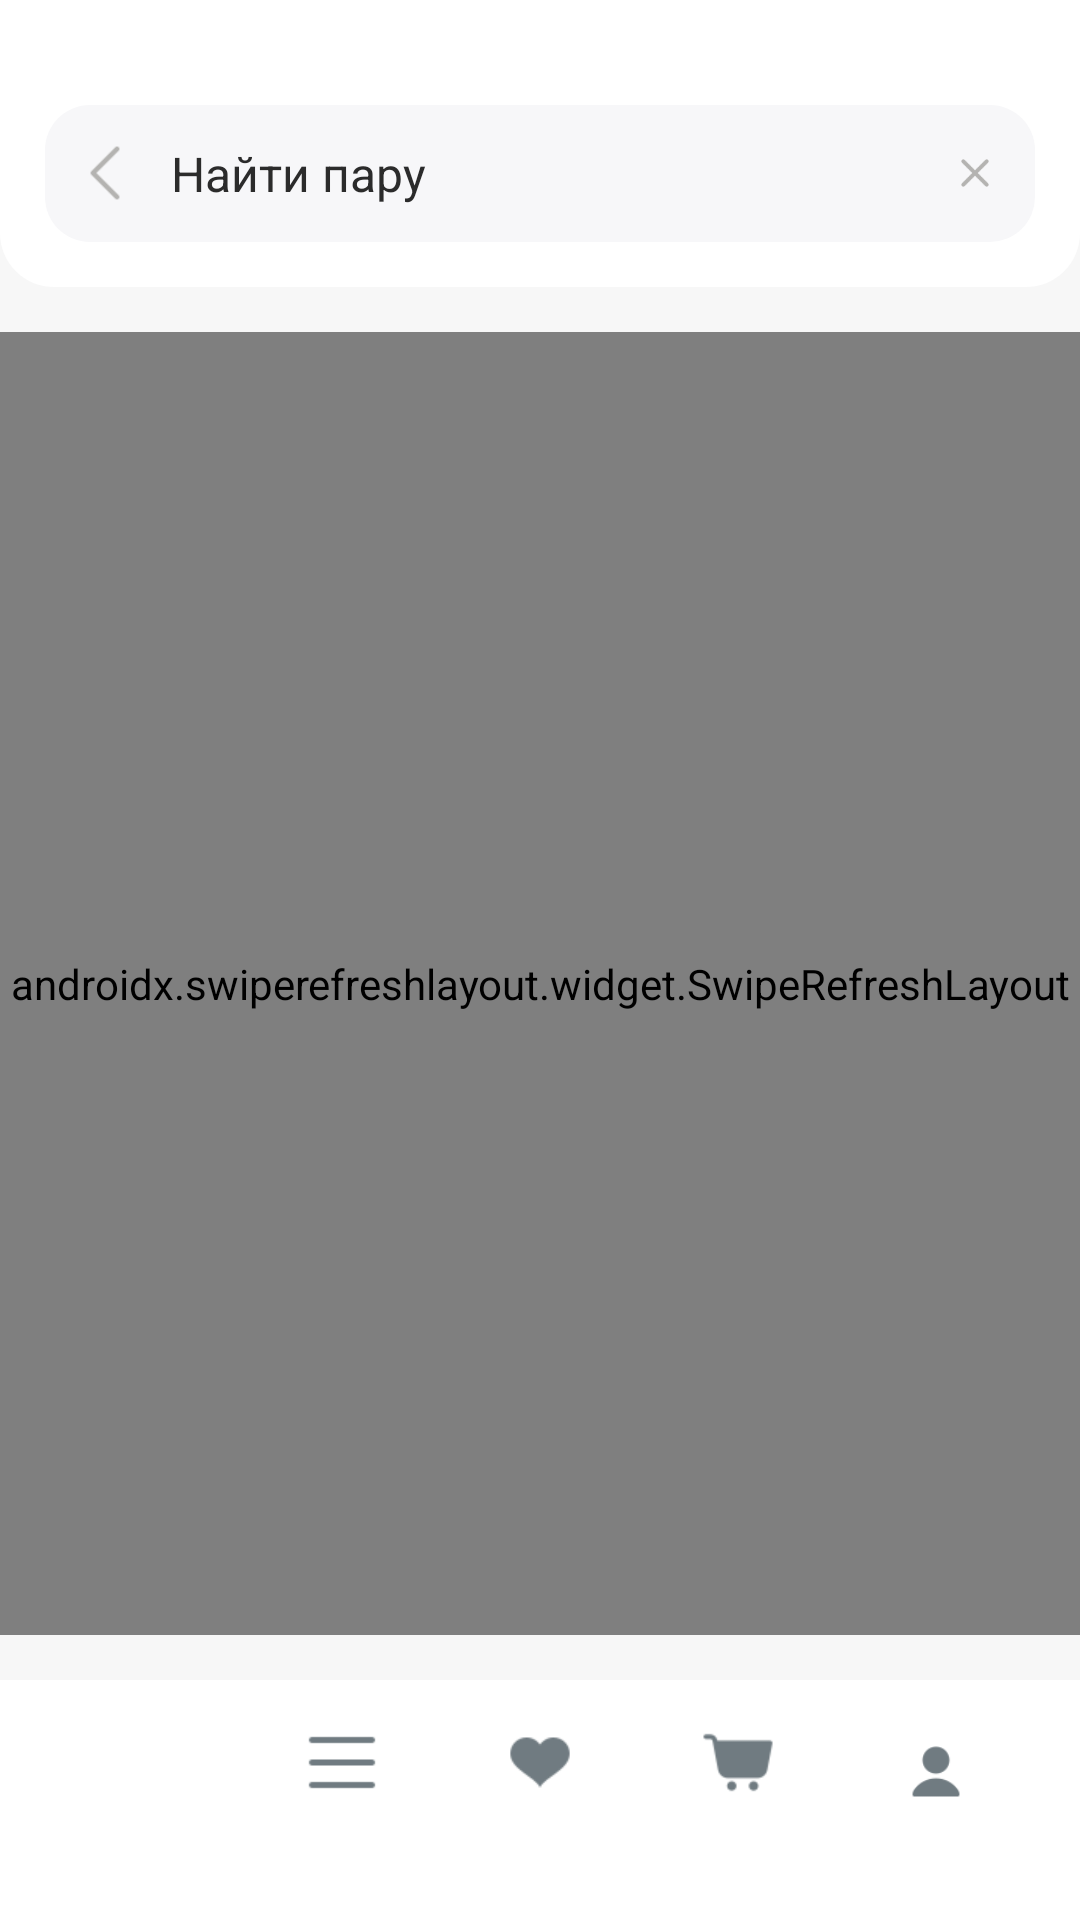

Icon click points for this 1080px x 1920px phone screenshot, format (x,y):
back search: (105,173)
cart: (738,1762)
cross search: (975,173)
favorite: (540,1762)
menu: (342,1762)
person: (936,1771)
